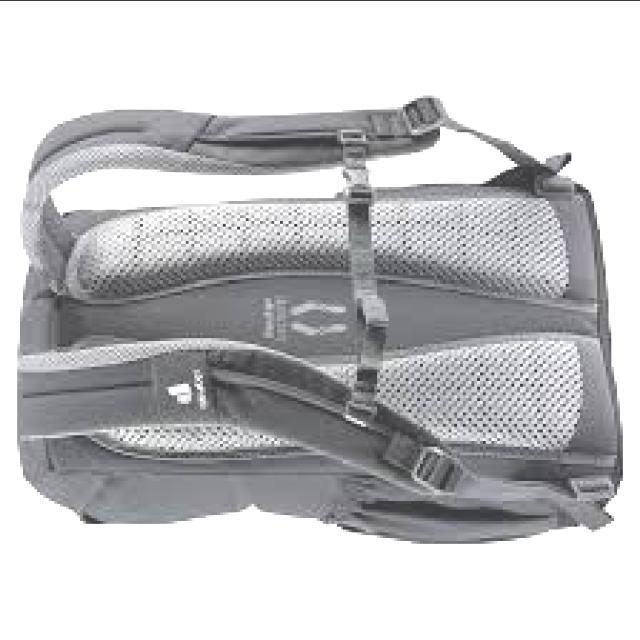backpack: (16, 95, 624, 547)
